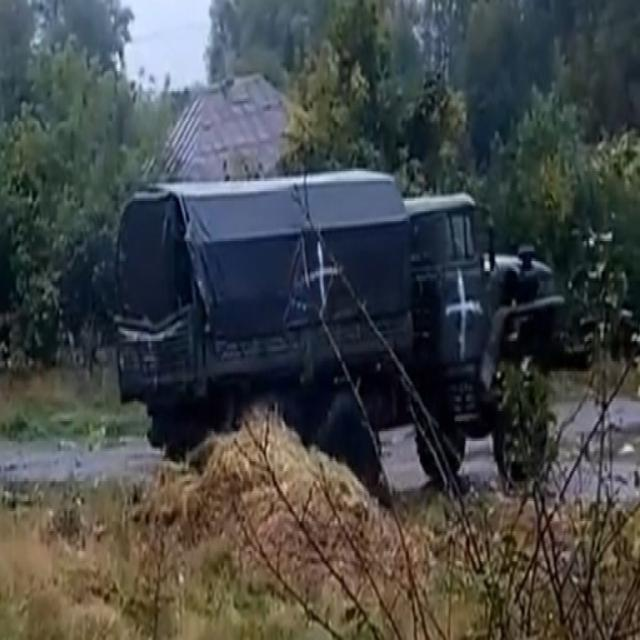TRUCK: (114, 142, 566, 531)
